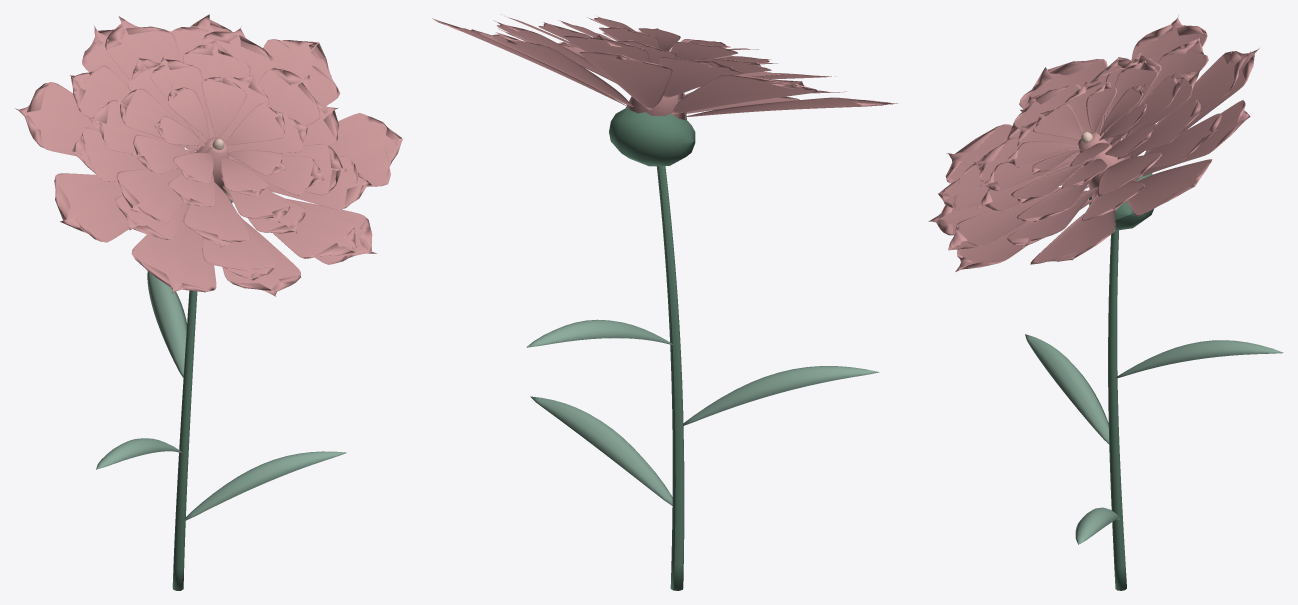
Rendered from carnation-rare-v2.glb.
3 views of the same model, side by side, from view 1: azimuth 30°, elevation 25°; view 2: azimuth 150°, elevation 25°; view 3: azimuth 270°, elevation 25° (orthographic). The views are drawn at different scales.
Parts seen in each view (by area): view 1: carnation-rare-v2-petal, carnation-rare-v2-leaf, carnation-rare-v2-stem; view 2: carnation-rare-v2-petal, carnation-rare-v2-stem, carnation-rare-v2-leaf; view 3: carnation-rare-v2-petal, carnation-rare-v2-leaf, carnation-rare-v2-stem.
Part boxes in pixels (<box>): carnation-rare-v2-petal: <box>15,14,402,296</box>; carnation-rare-v2-leaf: <box>96,271,346,520</box>; carnation-rare-v2-stem: <box>172,192,232,590</box>; carnation-rare-v2-petal: <box>432,14,898,119</box>; carnation-rare-v2-stem: <box>609,106,695,590</box>; carnation-rare-v2-leaf: <box>526,319,879,505</box>; carnation-rare-v2-petal: <box>928,15,1259,271</box>; carnation-rare-v2-leaf: <box>1025,334,1283,544</box>; carnation-rare-v2-stem: <box>1089,173,1153,590</box>.
Bounding box in the file's own units: 1.23 × 1.73 × 1.04.
